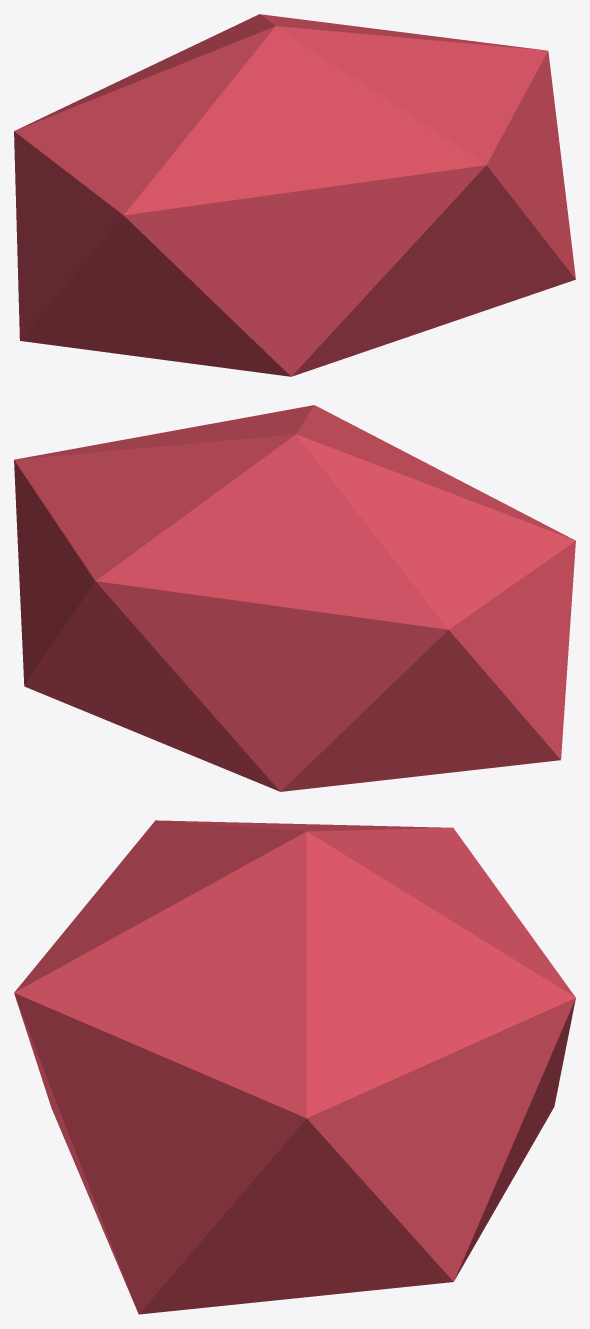
The model's file is item_026_dried_berries_s.glb.
3 renders of one model, top to bottom at view 1: azimuth 30°, elevation 25°; view 2: azimuth 150°, elevation 25°; view 3: azimuth 270°, elevation 25°, orthographic. The views are drawn at different scales.
Visible parts, largest first — view 1: item_026_dried_berries_s; view 2: item_026_dried_berries_s; view 3: item_026_dried_berries_s.
Boxes of the visible parts, x1,y1,x2,y2 form: item_026_dried_berries_s: [14, 14, 575, 376]; item_026_dried_berries_s: [14, 405, 575, 791]; item_026_dried_berries_s: [14, 820, 575, 1314].
Bounding box in the file's own units: 0.3049 × 0.186 × 0.2192.
